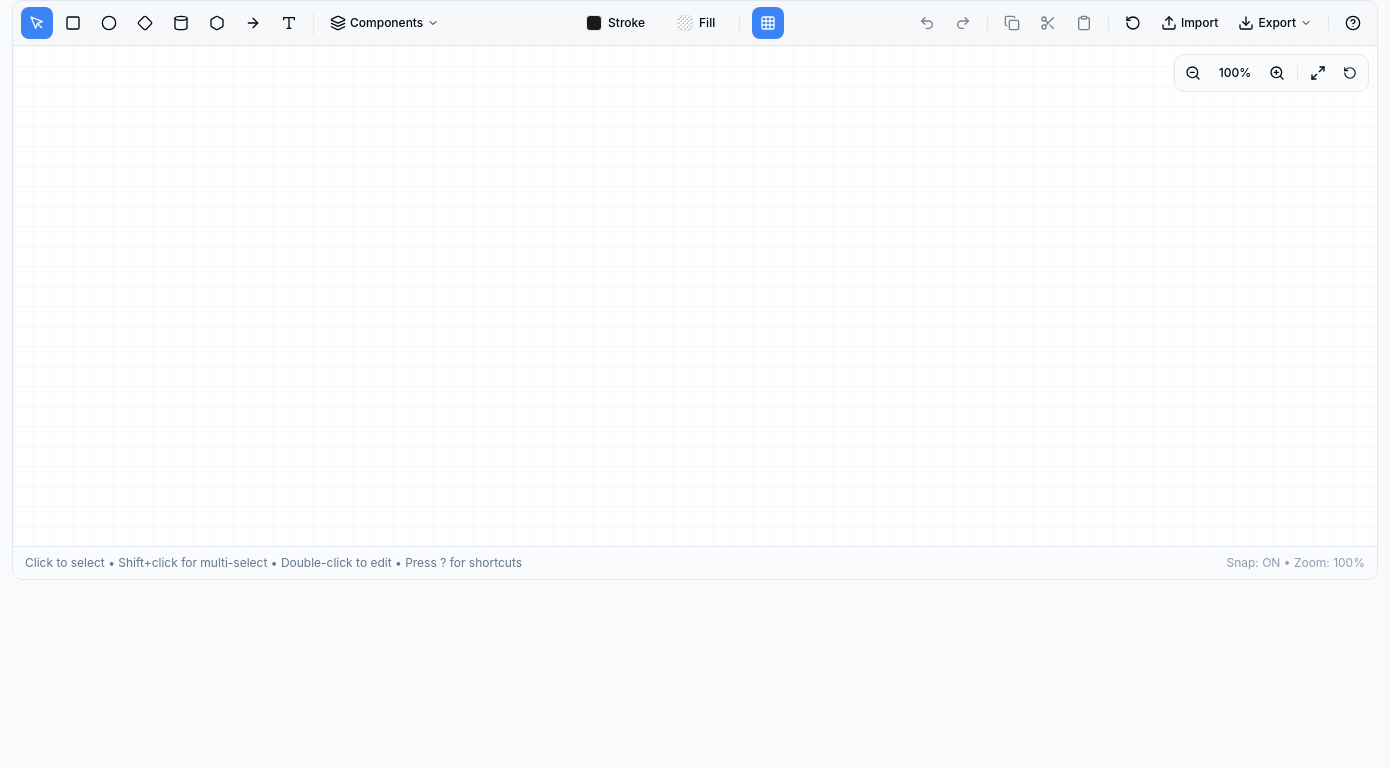
Test: DesignCanvas › Import/Export UI › closes export dropdown after format selection
This screenshot has width=1390, height=768.
// Open dropdown
Step 1. Click the button titled "Export diagram" → point(1275, 23), box [1230,7,1320,39]
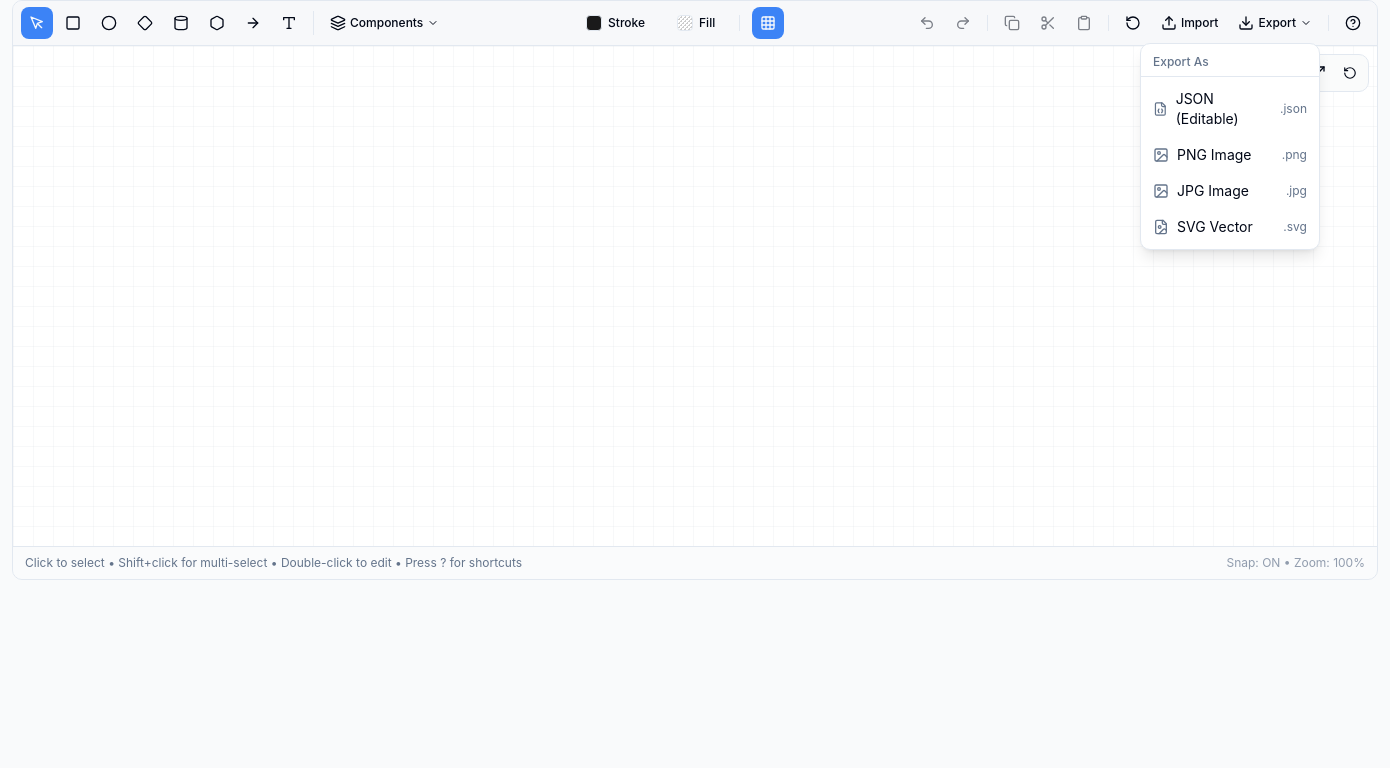
// Click on PNG format
Step 2. Click the text "PNG Image" → point(1214, 155), box [1177,145,1252,165]
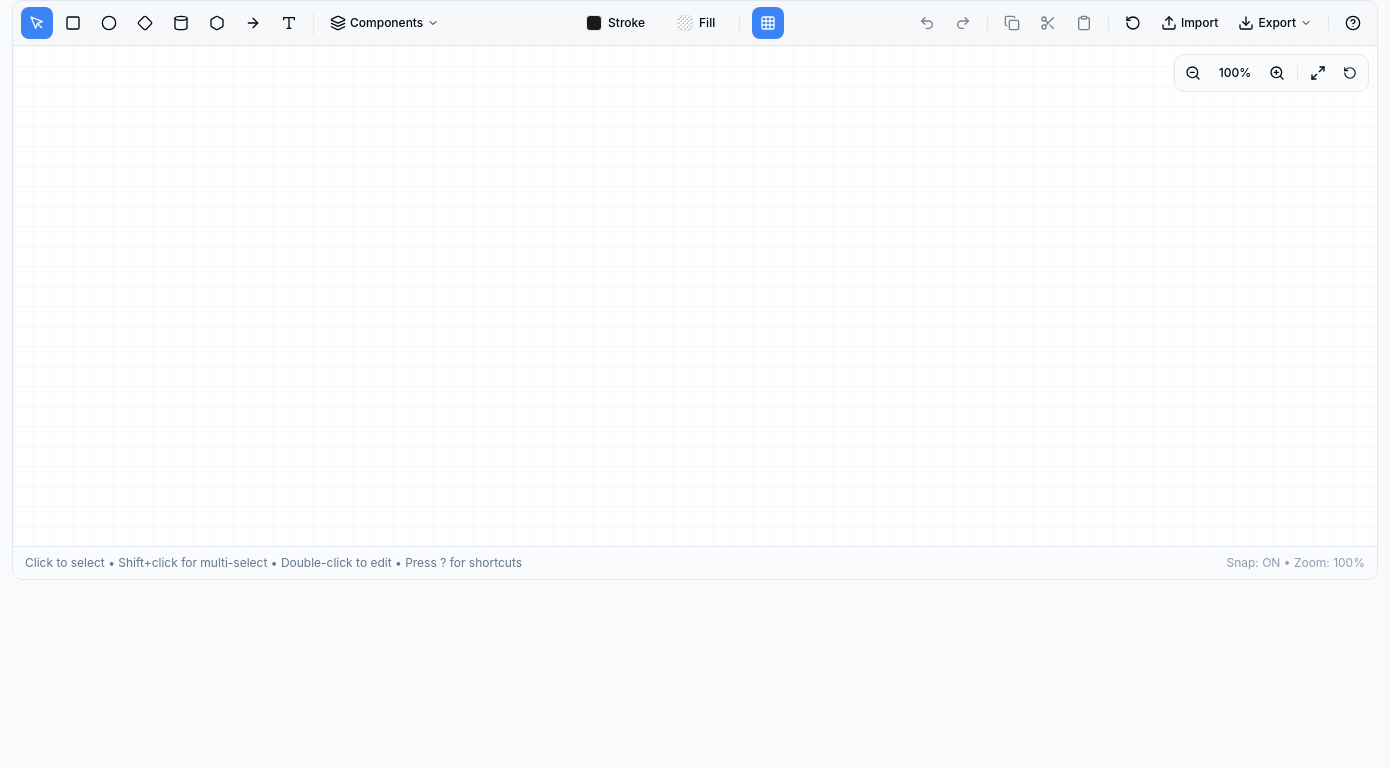
Now the text "Export As" is gone
